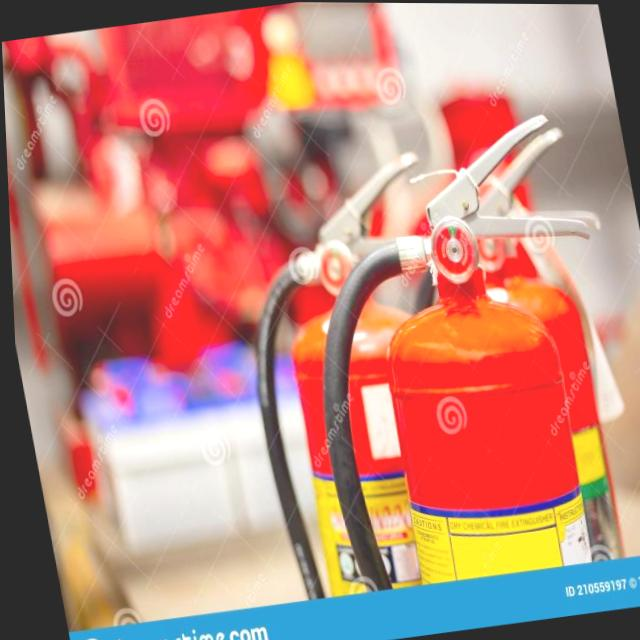FireExtinguisher: (268, 104, 640, 598), (208, 143, 505, 603)
